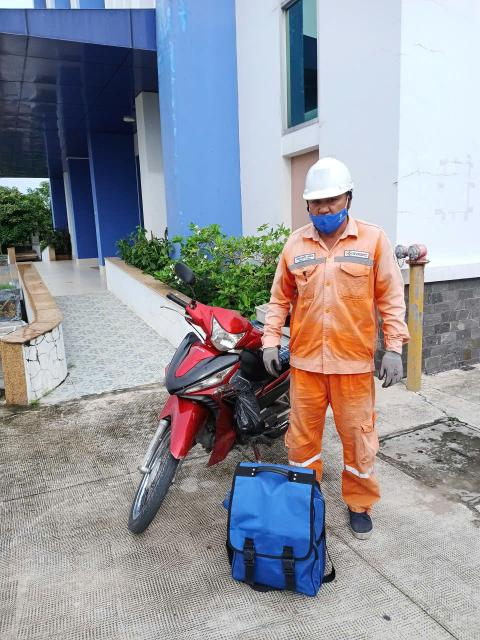gloves: (246, 334, 291, 382), (369, 348, 410, 388)
helmet: (298, 146, 365, 216)
